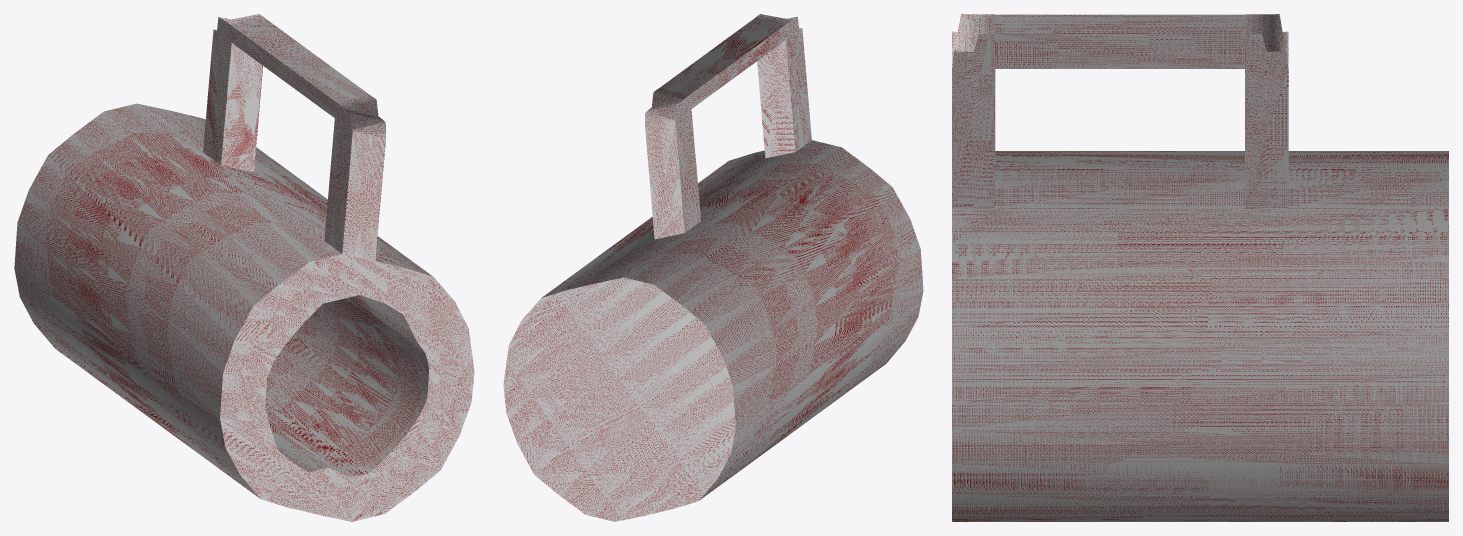
The model's file is model_scale.obj.
3 renders of one model, left to right at view 1: azimuth 30°, elevation 25°; view 2: azimuth 150°, elevation 25°; view 3: azimuth 270°, elevation 25°, orthographic. The views are drawn at different scales.
Visible parts, largest first — view 1: mesh1_mesh1-geometry; view 2: mesh1_mesh1-geometry; view 3: mesh1_mesh1-geometry.
Boxes of the visible parts, x1,y1,x2,y2 form: mesh1_mesh1-geometry: (14,14,474,521); mesh1_mesh1-geometry: (503,14,923,521); mesh1_mesh1-geometry: (952,14,1448,521).
Size of the model in its own units: 0.0839 by 0.1277 by 0.1174.
